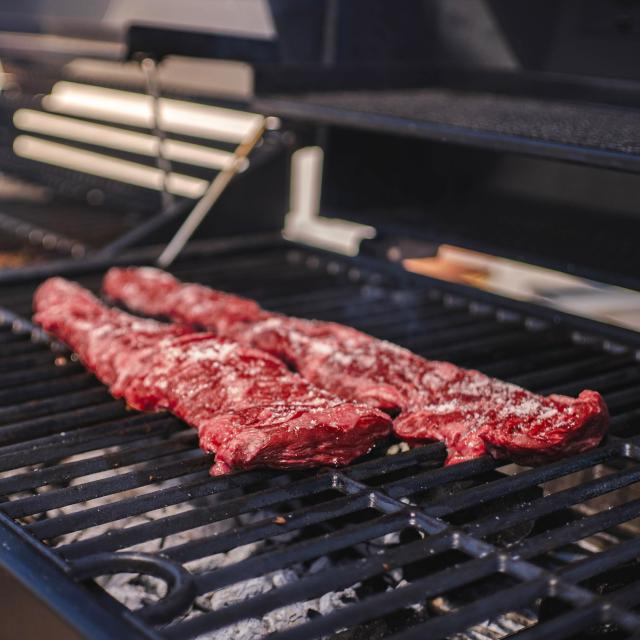carne de res: (36, 256, 612, 478)
